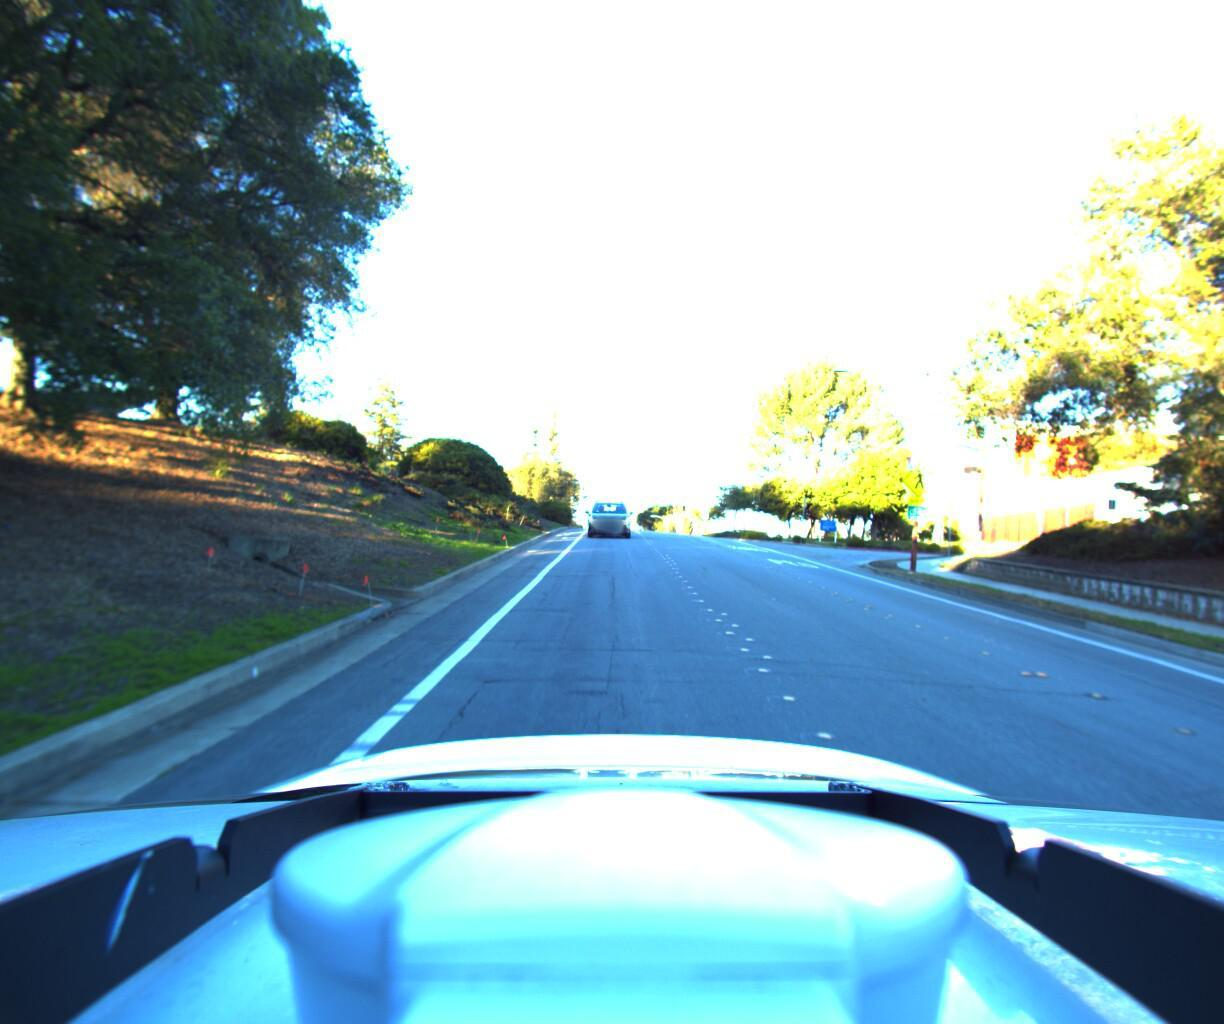car: (582, 494, 634, 543)
